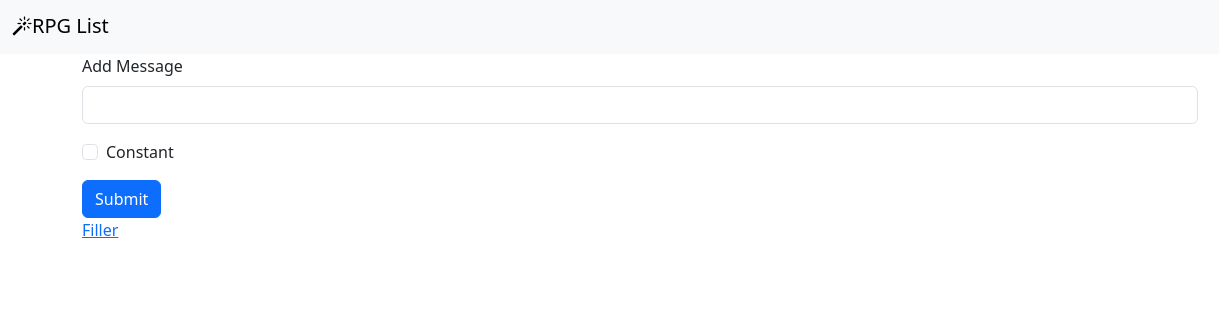
Test case: <MessageBlock /> › make constant
The image size is (1219, 331).
Step 1. Type "Some text" into the field → (640, 105), box [82,86,1198,124]
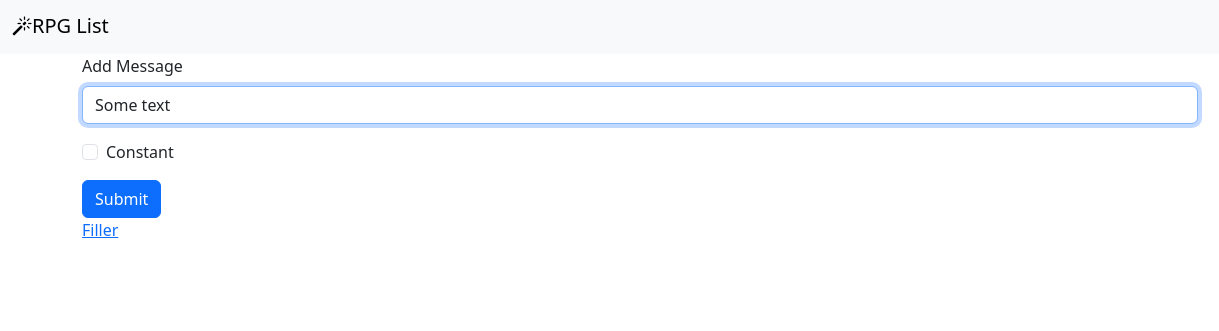
Step 2. Check the checkbox with class "form-check-input" → (90, 152), box [82,144,98,160]
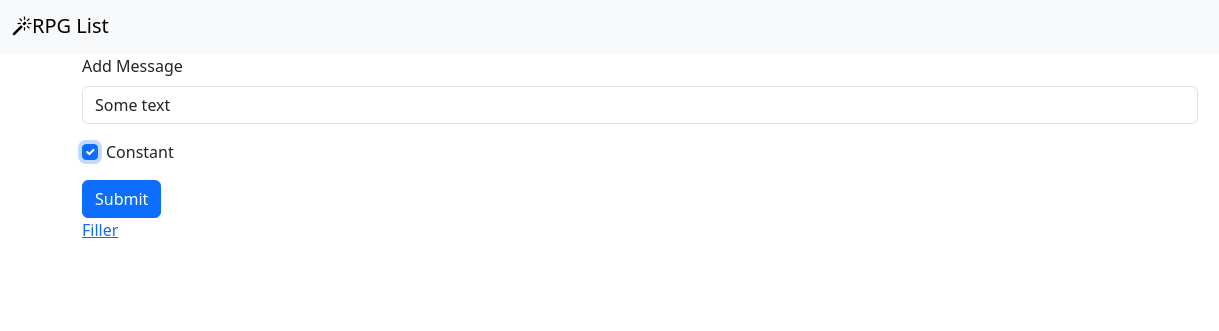
Step 3. Click the button "Submit" → click(122, 199), box [82,180,161,218]
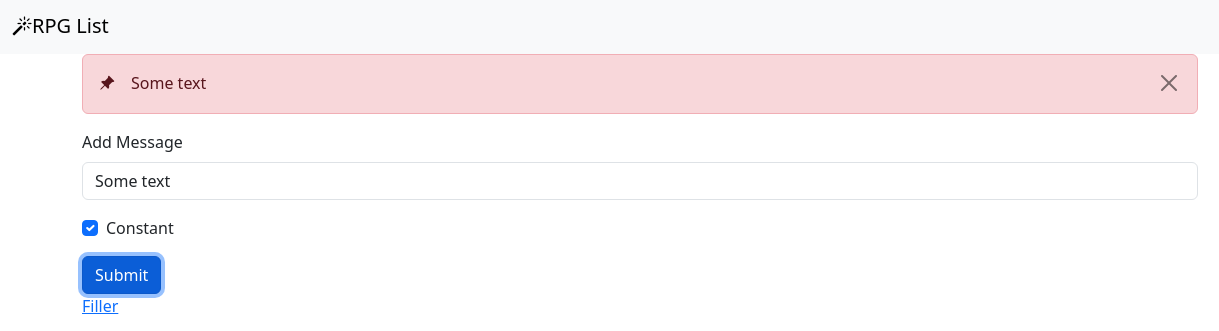
Expected: the element showing "Some text" is shown, [99,71,206,97]
Expected: the button with class "btn-close" is shown, [1157,71,1181,95]
